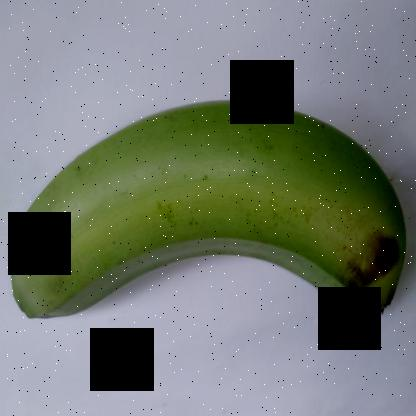freshunripe: (2, 74, 415, 353)
